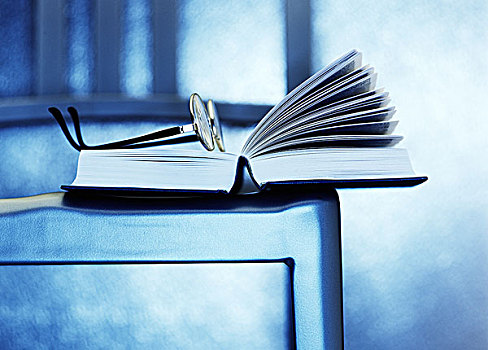book: (60, 45, 429, 201)
